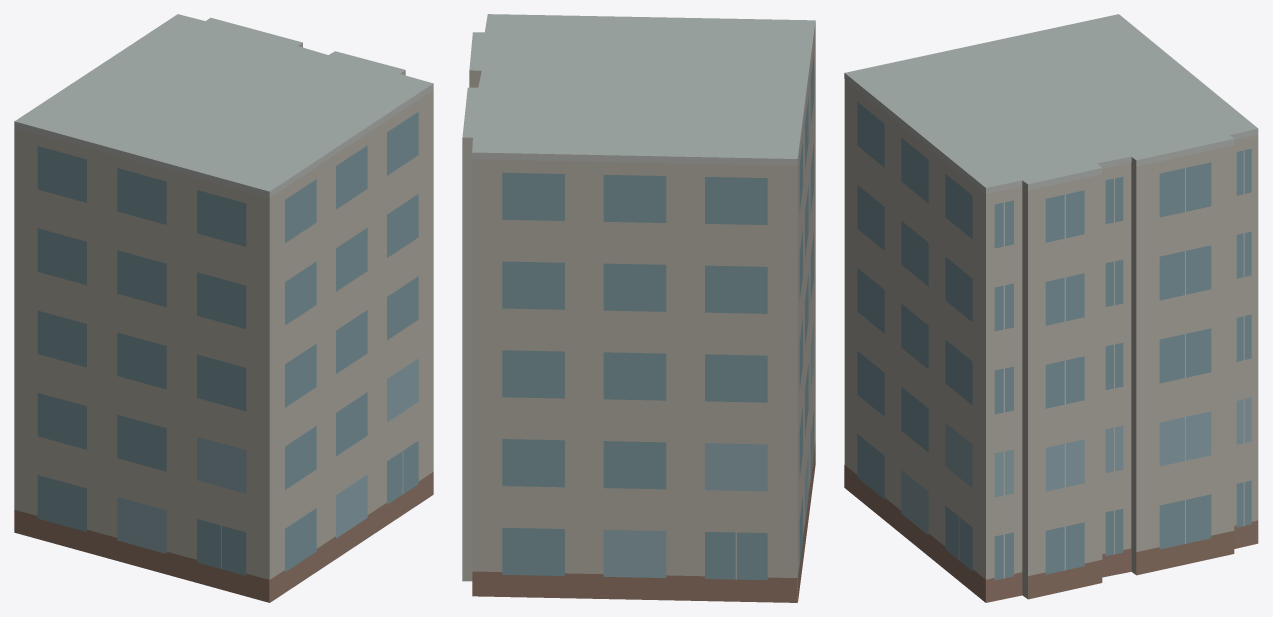
The model's file is survey-upis-32841635.glb.
3 views of the same model, side by side, from view 1: azimuth 30°, elevation 25°; view 2: azimuth 150°, elevation 25°; view 3: azimuth 270°, elevation 25° (orthographic). The views are drawn at different scales.
Visible parts, largest first — view 1: survey-upis-32841635.tmp; view 2: survey-upis-32841635.tmp; view 3: survey-upis-32841635.tmp.
Boxes of the visible parts, left/top/right/bottom form: survey-upis-32841635.tmp: left=14, top=14, right=433, bottom=602; survey-upis-32841635.tmp: left=462, top=14, right=815, bottom=602; survey-upis-32841635.tmp: left=844, top=14, right=1258, bottom=602.
Size of the model in its own units: 14.43 by 16.05 by 14.51.
